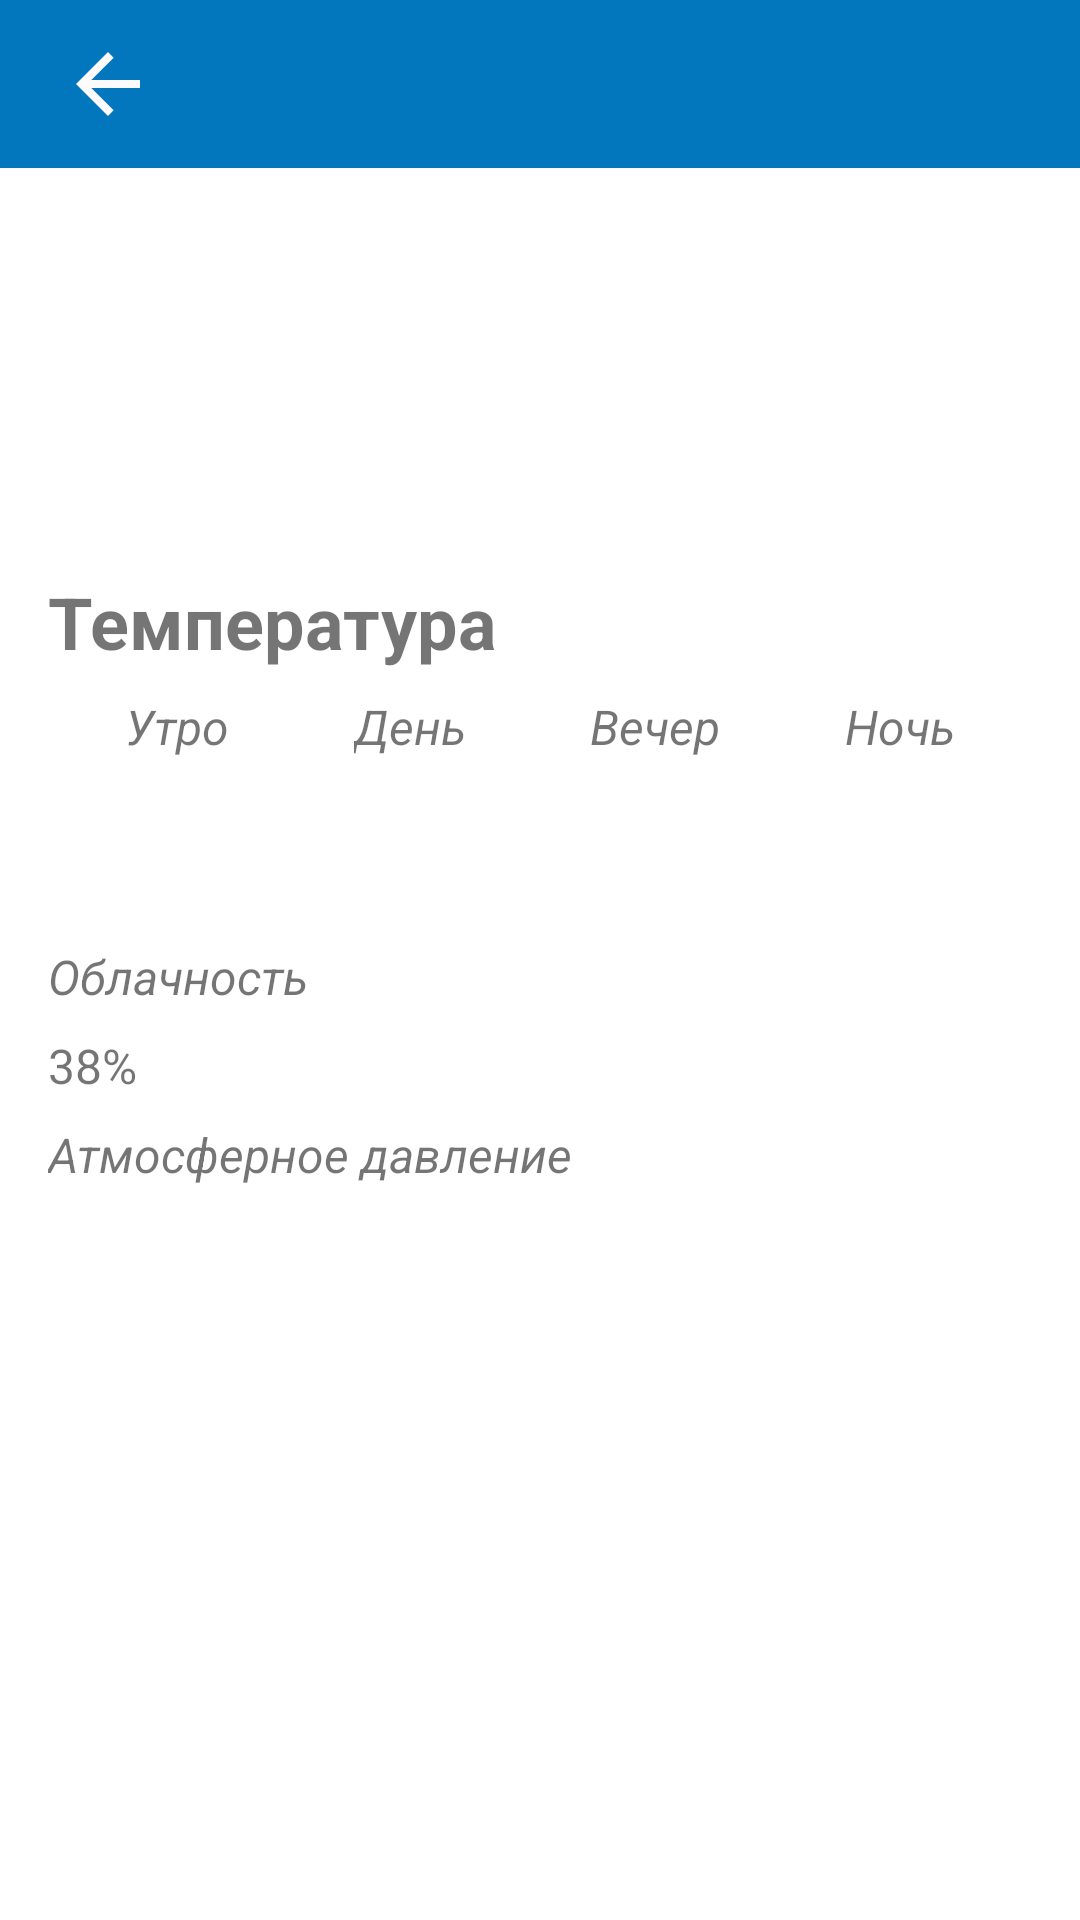

Screen size 1080*1920. Icon name, then its center in pixels as point (x, y):
arrow back: point (108, 84)
